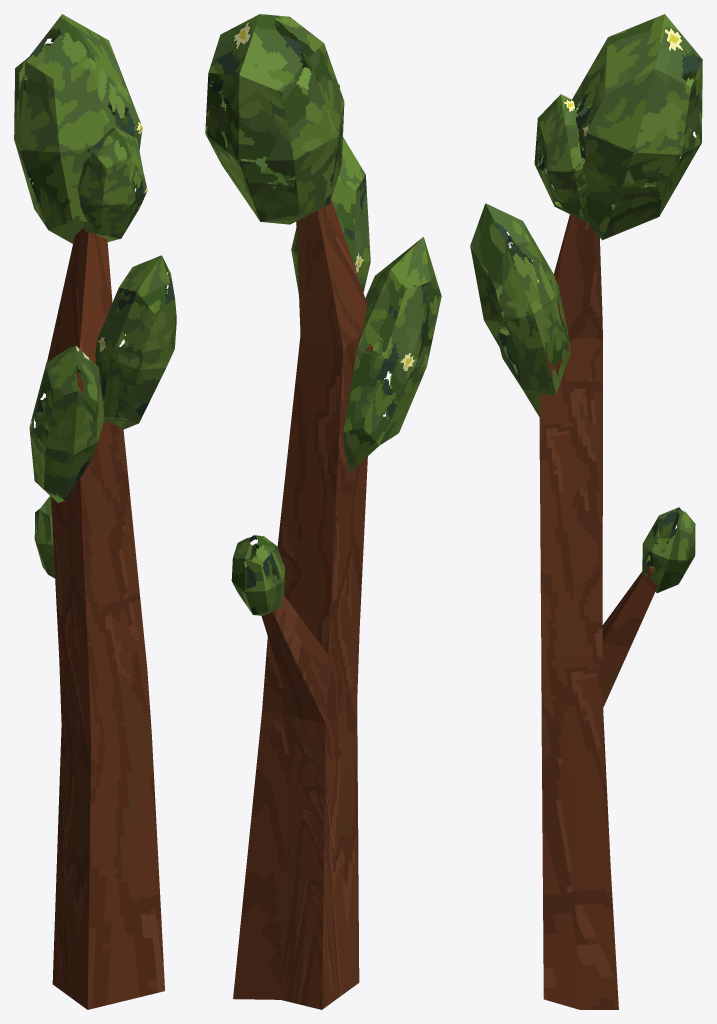
Rendered from LittleTree.fbx.
3 views of the same model, side by side, from view 1: azimuth 30°, elevation 25°; view 2: azimuth 150°, elevation 25°; view 3: azimuth 270°, elevation 25° (orthographic). The views are drawn at different scales.
Parts seen in each view (by area): view 1: Plane.015; view 2: Plane.015; view 3: Plane.015.
Part boxes in pixels (x1,y1,x2,y2): Plane.015: (14, 14, 176, 1009); Plane.015: (205, 14, 441, 1009); Plane.015: (470, 14, 702, 1009).
Size of the model in its own units: 4.94 by 29.94 by 6.5.
